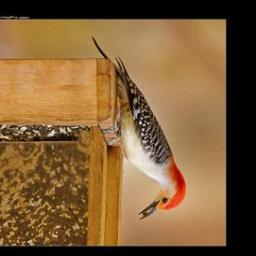Woodpecker: (92, 36, 187, 220)
